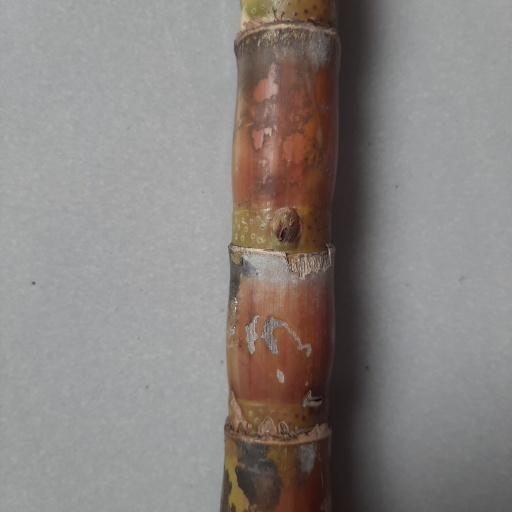Bud: (270, 207, 301, 244)
